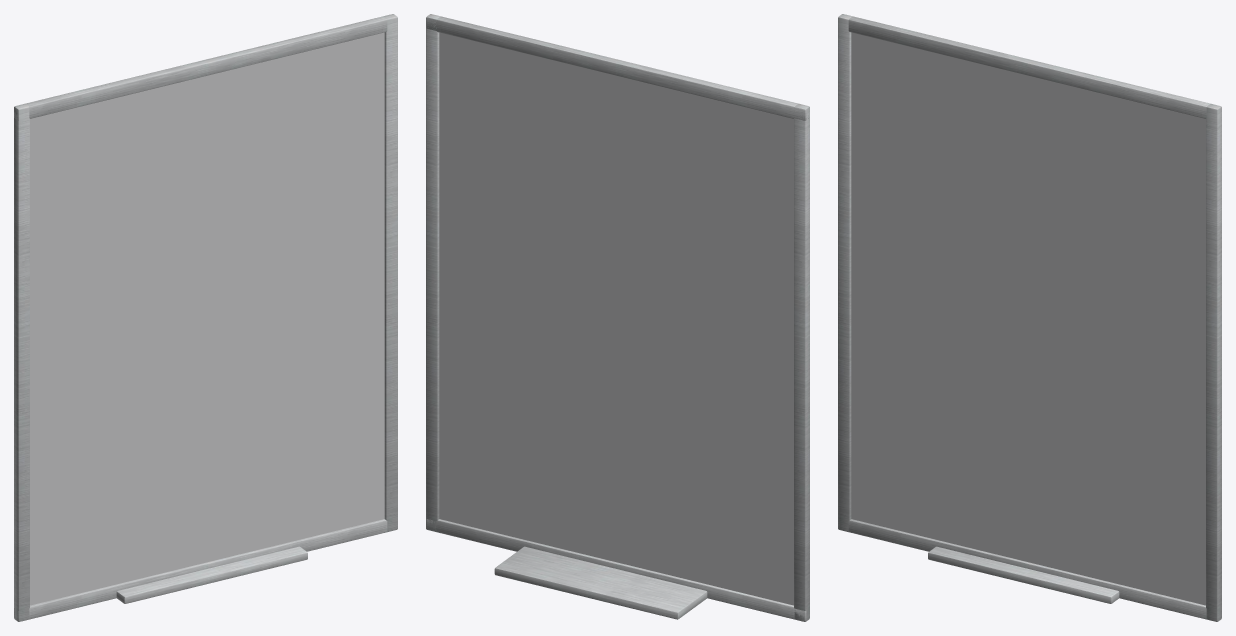
File: HID-ACS-004.glb
The picture shows the model from 3 angles, left to right: view 1: azimuth 30°, elevation 25°; view 2: azimuth 150°, elevation 25°; view 3: azimuth 330°, elevation 25°; orthographic projection.
Visible parts, largest first — view 1: HID-ACS-004_espelho, HID-ACS-004_moldura_v-1, HID-ACS-004_moldura_v1, HID-ACS-004_moldura_h1, HID-ACS-004_moldura_h-1, HID-ACS-004_pe; view 2: HID-ACS-004_espelho, HID-ACS-004_moldura_v-1, HID-ACS-004_moldura_v1, HID-ACS-004_pe, HID-ACS-004_moldura_h1, HID-ACS-004_moldura_h-1; view 3: HID-ACS-004_espelho, HID-ACS-004_moldura_v1, HID-ACS-004_moldura_v-1, HID-ACS-004_moldura_h1, HID-ACS-004_moldura_h-1, HID-ACS-004_pe.
Boxes of the visible parts, x1=… form: HID-ACS-004_espelho: x1=30, y1=32, x2=384, y2=605; HID-ACS-004_moldura_v-1: x1=14, y1=104, x2=29, y2=621; HID-ACS-004_moldura_v1: x1=383, y1=14, x2=397, y2=531; HID-ACS-004_moldura_h1: x1=14, y1=16, x2=397, y2=120; HID-ACS-004_moldura_h-1: x1=14, y1=519, x2=387, y2=621; HID-ACS-004_pe: x1=116, y1=546, x2=307, y2=603; HID-ACS-004_espelho: x1=439, y1=32, x2=793, y2=605; HID-ACS-004_moldura_v-1: x1=794, y1=103, x2=809, y2=621; HID-ACS-004_moldura_v1: x1=426, y1=14, x2=440, y2=530; HID-ACS-004_pe: x1=494, y1=546, x2=707, y2=619; HID-ACS-004_moldura_h1: x1=426, y1=16, x2=809, y2=120; HID-ACS-004_moldura_h-1: x1=426, y1=518, x2=809, y2=621; HID-ACS-004_espelho: x1=851, y1=32, x2=1205, y2=605; HID-ACS-004_moldura_v1: x1=1206, y1=104, x2=1221, y2=621; HID-ACS-004_moldura_v-1: x1=838, y1=14, x2=852, y2=531; HID-ACS-004_moldura_h1: x1=838, y1=16, x2=1217, y2=118; HID-ACS-004_moldura_h-1: x1=848, y1=519, x2=1217, y2=621; HID-ACS-004_pe: x1=928, y1=546, x2=1119, y2=603.
Size of the model in its own units: 0.62 by 0.8 by 0.12.
Materials: 2 (1 with a texture image).
